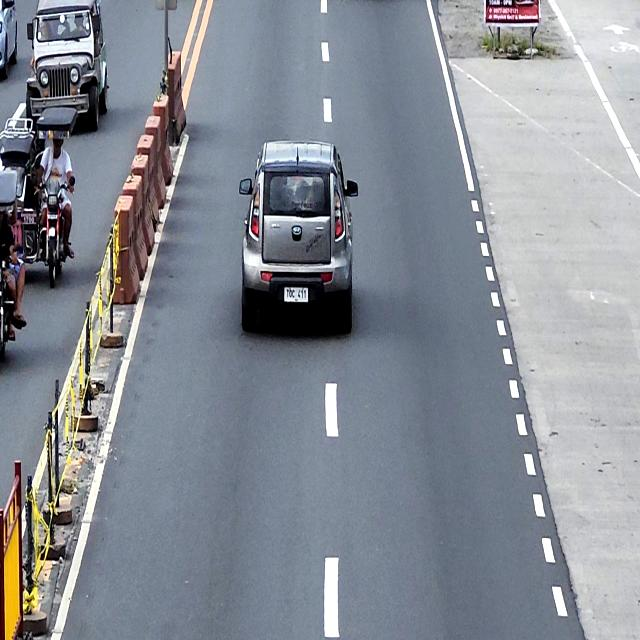Car: (239, 138, 358, 338), (25, 0, 109, 134), (0, 0, 18, 81)
License-Plate: (284, 286, 308, 304)
Tricycle: (0, 107, 79, 286), (0, 171, 19, 365)
